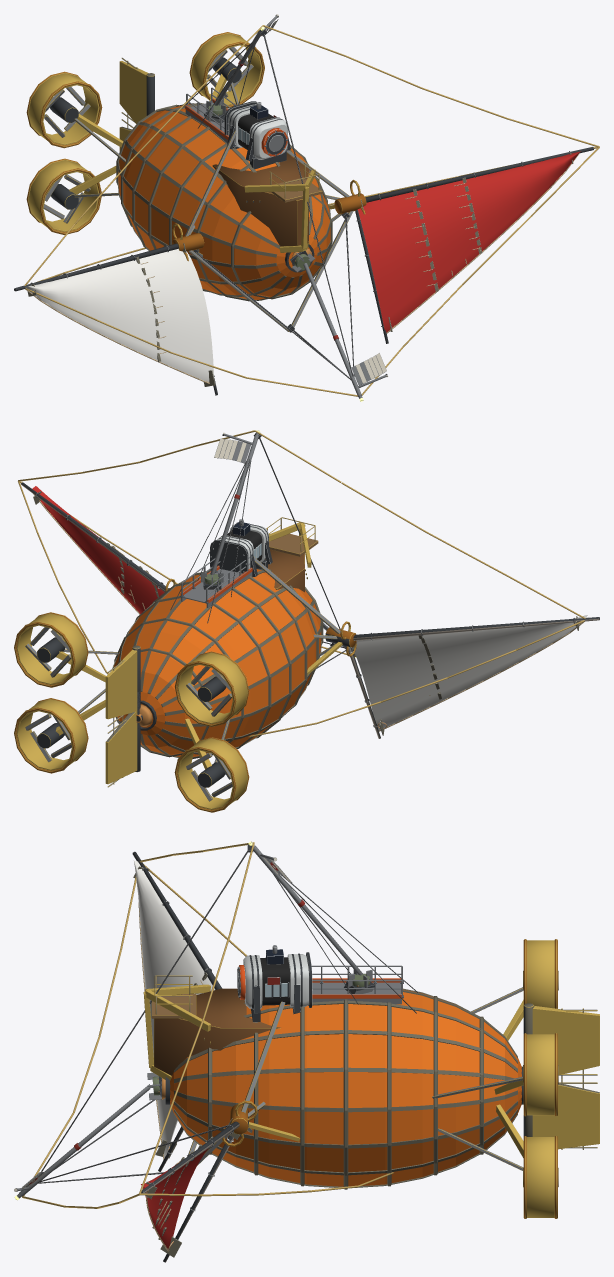
Rendered from sky_tug.fbx.
3 views of the same model, one above another, from view 1: azimuth 30°, elevation 25°; view 2: azimuth 150°, elevation 25°; view 3: azimuth 270°, elevation 25° (orthographic). The views are drawn at different scales.
Visible parts, largest first — view 1: Mesh_SkyCity_Bag2_GasEnvelope_Banded.003, Mesh_SkyCity_SailPort_LateenSail_PatchedPort.003, Mesh_SkyCity_SailStbd_LateenSail_Main.004, Mesh_SkyCity_SternGear.005, Mesh_SkyCity_Outriggers.004, Mesh_SkyCity_Prow.001, Mesh_SkyCity_SternGear.004, Mesh_SkyCity_Flag01_MastRig_Flag.005, Mesh_SkyCity_Home17_HabCapsule_Short.002, Mesh_SkyCity_Flag01_MastRig_Flag.004, Mesh_SkyCity_Under02_Catwalk_Straight.002; view 2: Mesh_SkyCity_Bag2_GasEnvelope_Banded.003, Mesh_SkyCity_SailStbd_LateenSail_Main.004, Mesh_SkyCity_SternGear.004, Mesh_SkyCity_SternGear.005, Mesh_SkyCity_Outriggers.004, Mesh_SkyCity_SailPort_LateenSail_PatchedPort.003, Mesh_SkyCity_Flag01_MastRig_Flag.004, Mesh_SkyCity_Prow.001, Mesh_SkyCity_Home17_HabCapsule_Short.002, Mesh_SkyCity_Under02_Catwalk_Straight.002; view 3: Mesh_SkyCity_Bag2_GasEnvelope_Banded.003, Mesh_SkyCity_SternGear.005, Mesh_SkyCity_Prow.001, Mesh_SkyCity_SternGear.004, Mesh_SkyCity_SailStbd_LateenSail_Main.004, Mesh_SkyCity_Outriggers.004, Mesh_SkyCity_Home17_HabCapsule_Short.002, Mesh_SkyCity_SailPort_LateenSail_PatchedPort.003, Mesh_SkyCity_Flag01_MastRig_Flag.005, Mesh_SkyCity_Flag01_MastRig_Flag.004, Mesh_SkyCity_Under02_Catwalk_Straight.002.
Part boxes in pixels (<box>): Mesh_SkyCity_Bag2_GasEnvelope_Banded.003: <box>116,103,332,301</box>; Mesh_SkyCity_SailPort_LateenSail_PatchedPort.003: <box>355,147,593,343</box>; Mesh_SkyCity_SailStbd_LateenSail_Main.004: <box>14,243,217,395</box>; Mesh_SkyCity_SternGear.005: <box>26,32,264,161</box>; Mesh_SkyCity_Outriggers.004: <box>24,25,599,396</box>; Mesh_SkyCity_Prow.001: <box>212,153,322,252</box>; Mesh_SkyCity_SternGear.004: <box>26,119,133,234</box>; Mesh_SkyCity_Flag01_MastRig_Flag.005: <box>193,29,387,401</box>; Mesh_SkyCity_Home17_HabCapsule_Short.002: <box>224,101,290,169</box>; Mesh_SkyCity_Flag01_MastRig_Flag.004: <box>182,14,278,128</box>; Mesh_SkyCity_Under02_Catwalk_Straight.002: <box>184,87,236,142</box>; Mesh_SkyCity_Bag2_GasEnvelope_Banded.003: <box>112,568,323,758</box>; Mesh_SkyCity_SailStbd_LateenSail_Main.004: <box>347,615,599,738</box>; Mesh_SkyCity_SternGear.004: <box>14,688,249,812</box>; Mesh_SkyCity_SternGear.005: <box>14,612,249,726</box>; Mesh_SkyCity_Outriggers.004: <box>18,430,585,737</box>; Mesh_SkyCity_SailPort_LateenSail_PatchedPort.003: <box>21,482,168,614</box>; Mesh_SkyCity_Flag01_MastRig_Flag.004: <box>170,430,260,623</box>; Mesh_SkyCity_Prow.001: <box>265,517,318,592</box>; Mesh_SkyCity_Home17_HabCapsule_Short.002: <box>210,519,272,577</box>; Mesh_SkyCity_Under02_Catwalk_Straight.002: <box>180,556,252,607</box>; Mesh_SkyCity_Bag2_GasEnvelope_Banded.003: <box>161,988,523,1189</box>; Mesh_SkyCity_SternGear.005: <box>432,939,599,1116</box>; Mesh_SkyCity_Prow.001: <box>143,975,280,1080</box>; Mesh_SkyCity_SternGear.004: <box>438,1079,599,1218</box>; Mesh_SkyCity_SailStbd_LateenSail_Main.004: <box>132,851,222,1171</box>; Mesh_SkyCity_Outriggers.004: <box>22,842,394,1208</box>; Mesh_SkyCity_Home17_HabCapsule_Short.002: <box>237,945,312,1022</box>; Mesh_SkyCity_SailPort_LateenSail_PatchedPort.003: <box>141,1118,240,1262</box>; Mesh_SkyCity_Flag01_MastRig_Flag.005: <box>14,844,253,1200</box>; Mesh_SkyCity_Flag01_MastRig_Flag.004: <box>248,841,418,1013</box>; Mesh_SkyCity_Under02_Catwalk_Straight.002: <box>311,965,403,1004</box>.
Bounding box in the file's own units: 3094 × 1612 × 2259.
